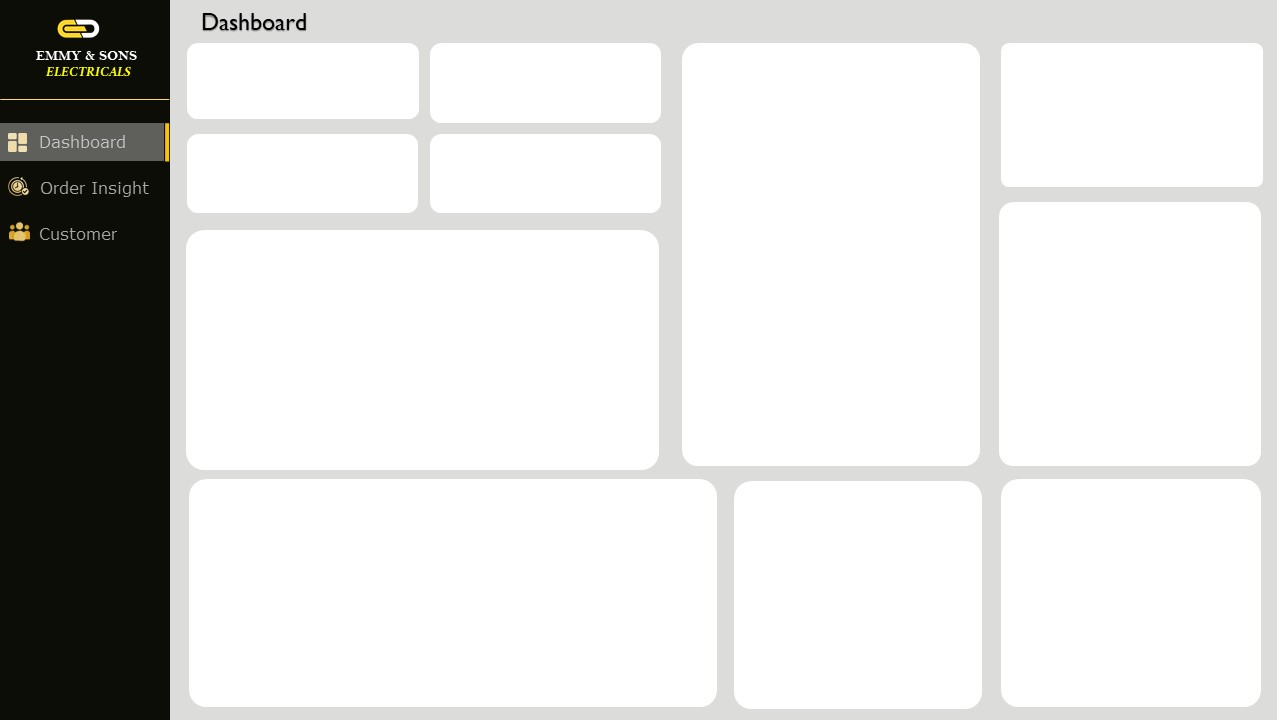

The dashboard page shown, as its layout file describes it:
{"tool":"powerbi","page":{"name":"Page 1","canvas":[1280,720],"ordinal":0},"visuals":[{"type":"textbox","box":[208,45,160,32],"z":0},{"type":"card","fields":{"Values":["All Measures.Total Orders"]},"box":[256,64,144,64],"z":1000},{"type":"image","box":[218,74,48,50],"z":2000},{"type":"textbox","box":[445.5,44.7,208.1,32.1],"z":3000},{"type":"image","box":[445.5,73.9,59.3,44.7],"z":4000},{"type":"card","fields":{"Values":["All Measures.Total Agents"]},"box":[504.8,64.2,144.9,64.2],"z":5000},{"type":"textbox","box":[207.2,136.2,161.5,37],"z":6000},{"type":"textbox","box":[455.2,136.2,161.5,37],"z":7000},{"type":"card","fields":{"Values":["All Measures.Revenue"]},"box":[455.2,141,205.2,64.2],"z":8000},{"type":"image","box":[446.4,156.6,47.7,49.6],"z":9000},{"type":"textbox","box":[208.1,218.8,247.1,35],"z":10000},{"type":"lineChart","fields":{"Y":["All Measures.Revenue"],"Category":["DateTable.MonthName"]},"box":[192.6,236.4,479.5,235.4],"z":11000},{"type":"slicer","fields":{"Values":["DateTable.Year"]},"box":[985.1,63.8,160.5,35.5],"z":12000},{"type":"textbox","box":[1005.7,41.8,208.1,32.1],"z":13000},{"type":"clusteredColumnChart","fields":{"Y":["All Measures.Total Orders"],"Category":["Electronic_sales.Branch"]},"box":[1007.7,218.8,240.2,245.1],"z":14000},{"type":"textbox","box":[1007.7,199.4,247.1,35],"z":15000},{"type":"lineChart","fields":{"Y":["All Measures.Revenue"],"Category":["DateTable.MonthName"]},"box":[737.3,58.4,238.3,96.3],"z":16000},{"type":"textbox","box":[686.8,82,89,32],"z":17000},{"type":"textbox","box":[687.7,43.8,279.1,32.1],"z":18000},{"type":"card","fields":{"Values":["All Measures.Apple order %"]},"box":[684.7,108,80.7,32.1],"z":19000},{"type":"lineChart","fields":{"Y":["All Measures.Revenue"],"Category":["DateTable.MonthName"]},"box":[751.9,142,236.4,90.5],"z":20000},{"type":"textbox","box":[687.1,160.4,88.5,31.1],"z":21000},{"type":"textbox","box":[687.1,237.9,88.5,31.1],"z":22000},{"type":"textbox","box":[695.3,315.4,72,31.1],"z":23000},{"type":"textbox","box":[687.1,392.9,88.5,31.1],"z":24000},{"type":"lineChart","fields":{"Y":["All Measures.Revenue"],"Category":["DateTable.MonthName"]},"box":[751.9,206.2,229.5,96.3],"z":25000},{"type":"lineChart","fields":{"Y":["All Measures.Revenue"],"Category":["DateTable.MonthName"]},"box":[751.9,284,229.5,96.3],"z":26000},{"type":"lineChart","fields":{"Y":["All Measures.Revenue"],"Category":["DateTable.MonthName"]},"box":[751.9,359.9,229.5,96.3],"z":27000},{"type":"card","fields":{"Values":["All Measures.Compac order %"]},"box":[684.7,187,80.7,32.1],"z":28000},{"type":"card","fields":{"Values":["All Measures.Dell order %"]},"box":[684.7,266,80.7,32.1],"z":29000},{"type":"card","fields":{"Values":["All Measures.Hp order %"]},"box":[684.7,345,80.7,32.1],"z":30000},{"type":"card","fields":{"Values":["All Measures.Lenovo order %"]},"box":[684.7,424.1,80.7,32.1],"z":31000},{"type":"columnChart","fields":{"Category":["Electronic_sales.Products"],"Y":["All Measures.Revenue"]},"box":[1005.5,503.6,258.9,199.5],"z":32000},{"type":"textbox","box":[1008.2,477.9,246.5,31.9],"z":33000},{"type":"card","fields":{"Values":["All Measures.Avg Price"]},"box":[227,149,172.9,63],"z":34000},{"type":"image","box":[208.4,155.2,48,50],"z":35000},{"type":"slicer","fields":{"Values":["Electronic_sales.Branch"]},"box":[1005.5,102,251.8,79.8],"z":36000},{"type":"slicer","fields":{"Values":["Electronic_sales.Sales Agent"]},"box":[1124.3,45.2,135,58],"z":37000},{"type":"donutChart","fields":{"Y":["All Measures.Revenue"],"Category":["Electronic_sales.Products"]},"box":[731.5,493.9,250,200.4],"z":38000},{"type":"pivotTable","fields":{"Rows":["Electronic_sales.Products","Electronic_sales.Branch"],"Values":["All Measures.Revenue"],"Columns":["Electronic_sales.Sales Agent"]},"box":[180.5,501.3,532.8,200.5],"z":39000},{"type":"textbox","box":[212,474.1,247.8,35.8],"z":40000}]}

Visuals, with their boxes in screenshot pixels (x1, y1, x2, y2):
textbox: box=[183, 33, 346, 65]
card - All Measures.Total Orders: box=[232, 52, 379, 118]
image: box=[193, 62, 242, 113]
textbox: box=[425, 32, 638, 65]
image: box=[425, 62, 486, 108]
card - All Measures.Total Agents: box=[486, 52, 634, 118]
textbox: box=[182, 126, 347, 164]
textbox: box=[435, 126, 601, 164]
card - All Measures.Revenue: box=[435, 131, 645, 196]
image: box=[426, 147, 475, 197]
textbox: box=[183, 210, 435, 246]
lineChart - All Measures.Revenue x DateTable.MonthName: box=[167, 228, 657, 469]
slicer - DateTable.Year: box=[977, 52, 1141, 88]
textbox: box=[998, 29, 1211, 62]
clusteredColumnChart - All Measures.Total Orders x Electronic_sales.Branch: box=[1000, 210, 1246, 461]
textbox: box=[1000, 191, 1253, 226]
lineChart - All Measures.Revenue x DateTable.MonthName: box=[724, 46, 967, 145]
textbox: box=[672, 71, 763, 103]
textbox: box=[673, 31, 958, 64]
card - All Measures.Apple order %: box=[670, 97, 753, 130]
lineChart - All Measures.Revenue x DateTable.MonthName: box=[739, 132, 980, 224]
textbox: box=[673, 151, 763, 182]
textbox: box=[673, 230, 763, 262]
textbox: box=[681, 309, 755, 341]
textbox: box=[673, 388, 763, 420]
lineChart - All Measures.Revenue x DateTable.MonthName: box=[739, 197, 973, 296]
lineChart - All Measures.Revenue x DateTable.MonthName: box=[739, 277, 973, 375]
lineChart - All Measures.Revenue x DateTable.MonthName: box=[739, 355, 973, 453]
card - All Measures.Compac order %: box=[670, 178, 753, 211]
card - All Measures.Dell order %: box=[670, 259, 753, 291]
card - All Measures.Hp order %: box=[670, 339, 753, 372]
card - All Measures.Lenovo order %: box=[670, 420, 753, 453]
columnChart - Electronic_sales.Products x All Measures.Revenue: box=[998, 502, 1263, 706]
textbox: box=[1001, 475, 1253, 508]
card - All Measures.Avg Price: box=[202, 139, 379, 203]
image: box=[183, 145, 232, 196]
slicer - Electronic_sales.Branch: box=[998, 91, 1255, 173]
slicer - Electronic_sales.Sales Agent: box=[1120, 33, 1258, 92]
donutChart - All Measures.Revenue x Electronic_sales.Products: box=[718, 492, 974, 697]
pivotTable - Electronic_sales.Products x Electronic_sales.Branch: box=[155, 499, 699, 704]
textbox: box=[187, 471, 440, 508]
